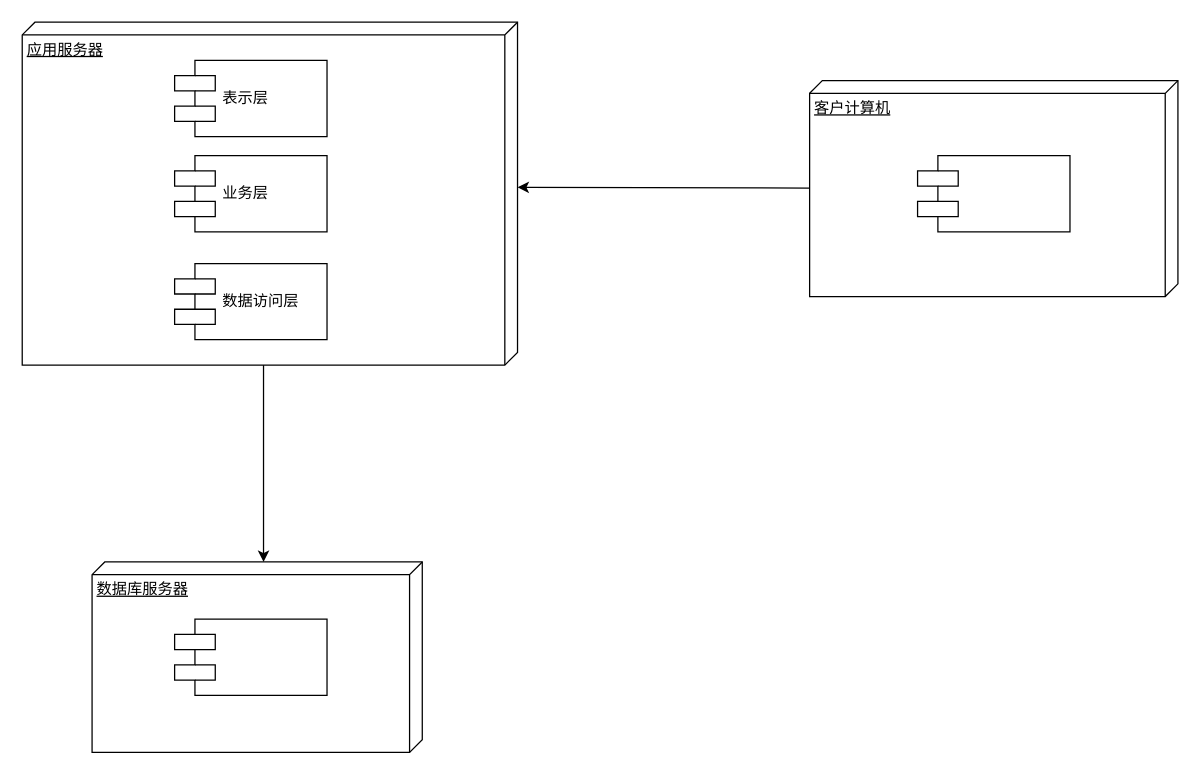
The diagram is 1200 pixels wide and 775 high, and some of its shapes have lost their labels. The centre of each missing label's shape, as x and y in pixels:
"数据库系统" belongs at point 250,656.
"浏览器" belongs at point 993,193.
